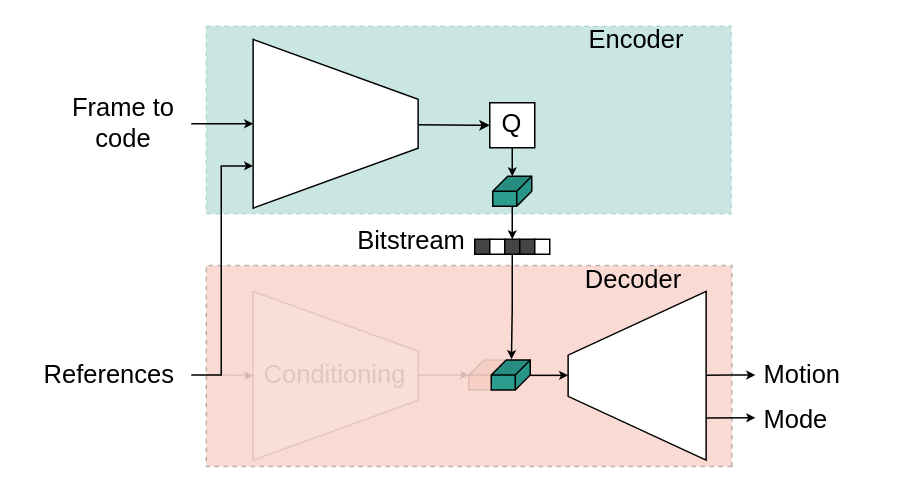
Some shapes in this 908 by 494 pixel diagram are drawn without their labels. Each missing label, with the centre of its shape:
Analysis: [335,123]
Synthesis: [636,375]
